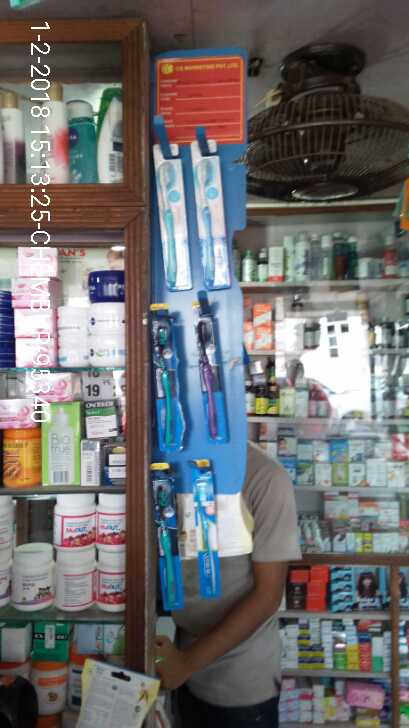oralb: (144, 310, 191, 449), (190, 470, 230, 604), (188, 310, 227, 438), (148, 476, 182, 618)
